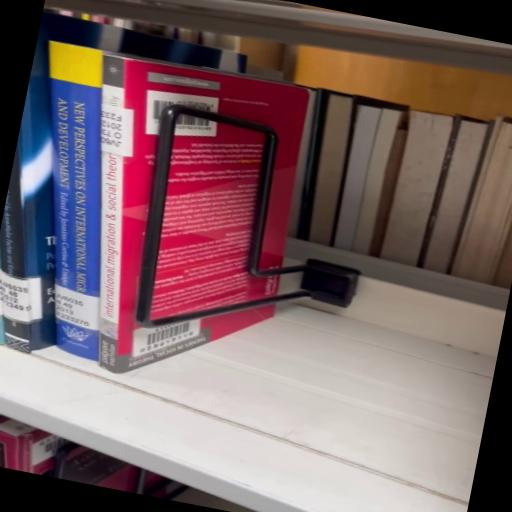reverse: (92, 53, 310, 374)
